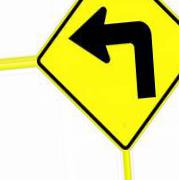left: (35, 1, 179, 148)
